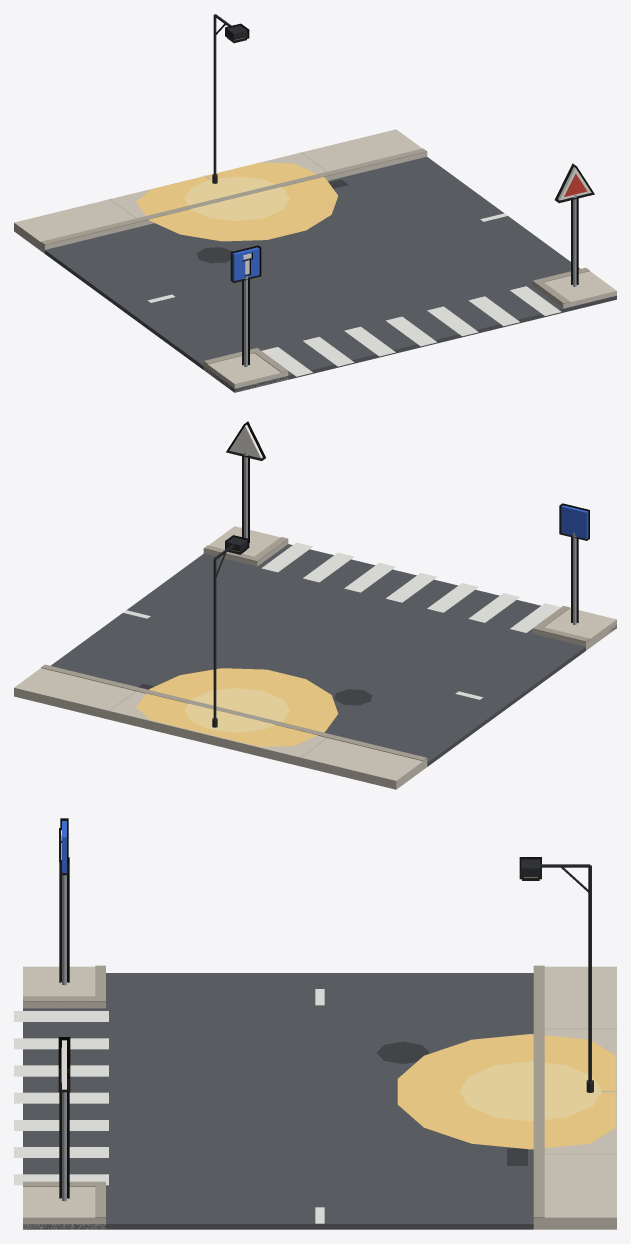
File: Yol_t_intersection_01.fbx
The picture shows the model from 3 angles, top to bottom: view 1: azimuth 30°, elevation 25°; view 2: azimuth 150°, elevation 25°; view 3: azimuth 270°, elevation 25°; orthographic projection. The views are drawn at different scales.
Parts seen in each view (by area): view 1: Yol_t_intersection_01; view 2: Yol_t_intersection_01; view 3: Yol_t_intersection_01.
Part boxes in pixels (x1,y1,x2,y2): Yol_t_intersection_01: (14,14,616,392); Yol_t_intersection_01: (14,421,616,789); Yol_t_intersection_01: (14,818,616,1229).
Bounding box in the file's own units: 10 × 4.49 × 10.15.
